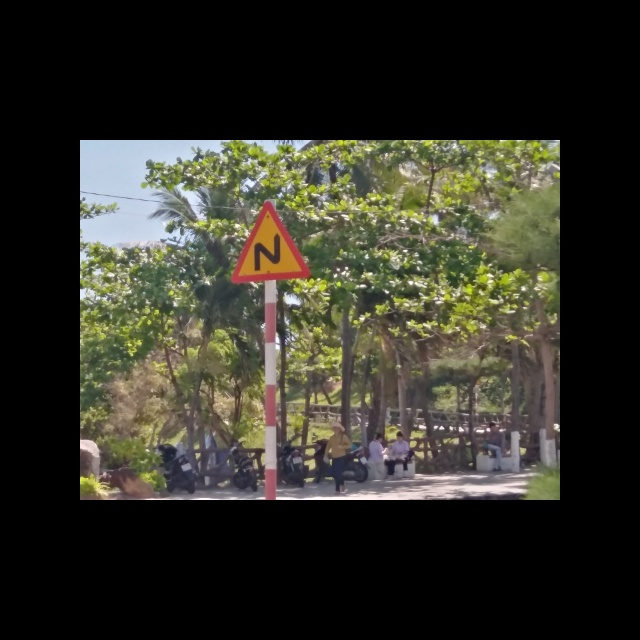Ngoặt nguy hiểm liên tiếp bên phải: (229, 200, 311, 285)
